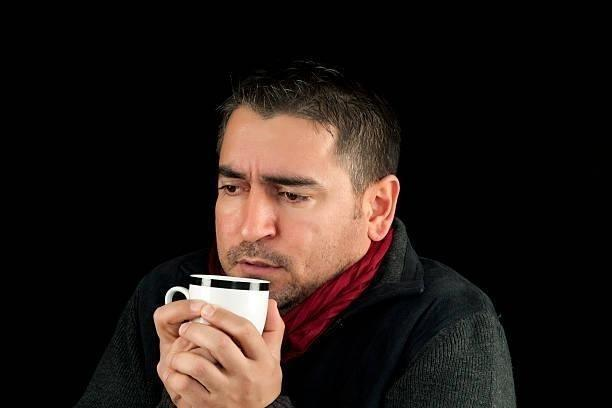cup-handle: (164, 272, 271, 388)
